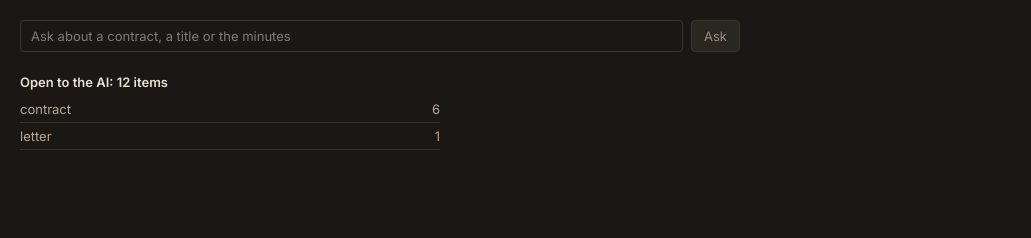
Test: AskPage › not_answered: says so and what would answer it
Type "Who gets subsidiary rights income?" into the field named "Question".
click(352, 36); type("Who gets subsidiary rights income?")  # box 20,20 -> 683,52
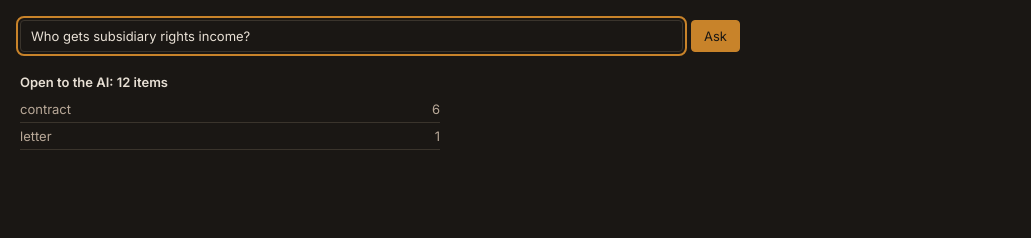
Click the button "Ask".
click(716, 36)  # box 691,20 -> 740,52
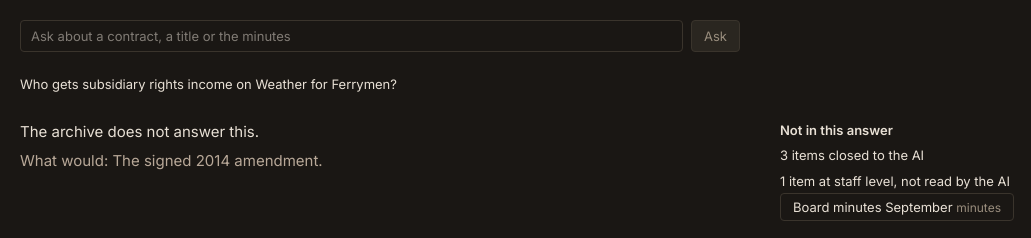
Now the text "The archive does not answer this." is shown, box 20,122 -> 259,141
Now the text "What would: The signed 2014 amendment." is shown, box 20,151 -> 323,170
